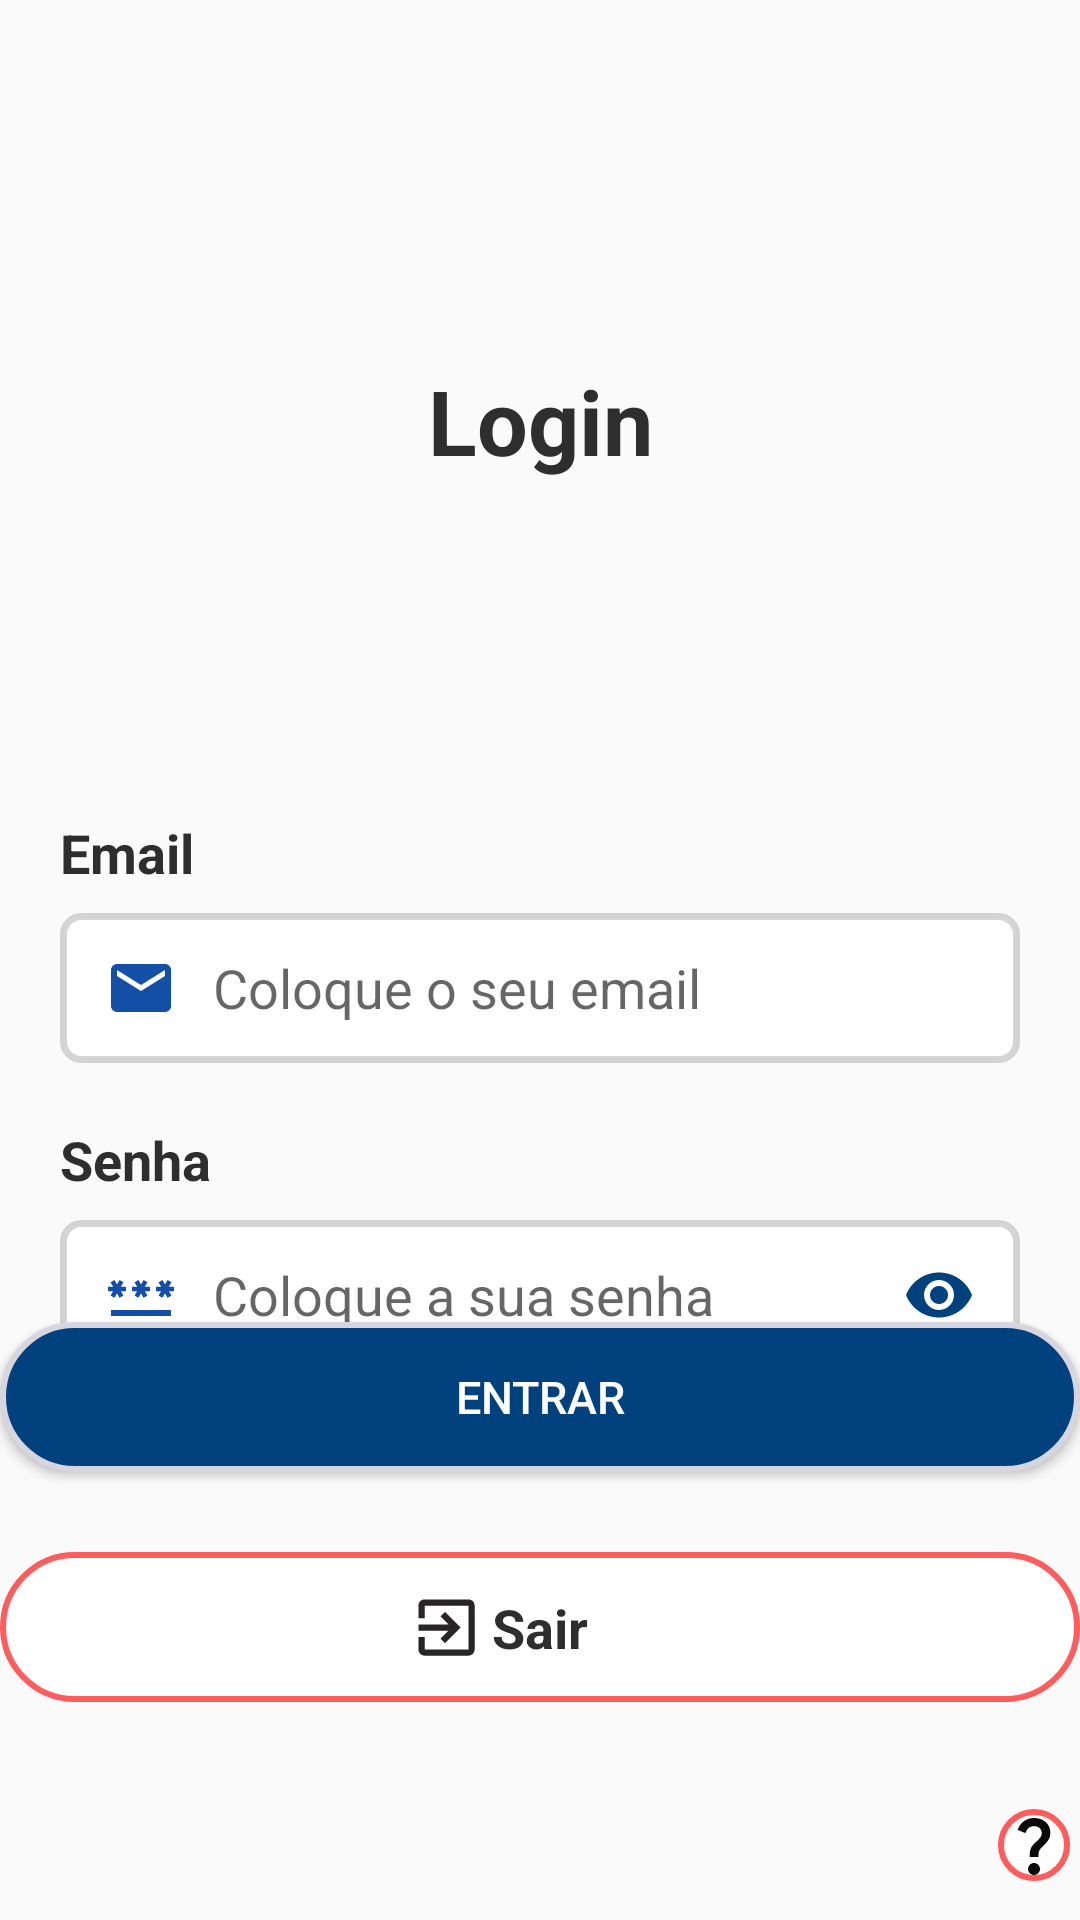

Screen size 1080px×1920px. Icon name, then its center in pixels as [x,y]:
exit to app: [446,1627]
question mark: [1034,1845]
